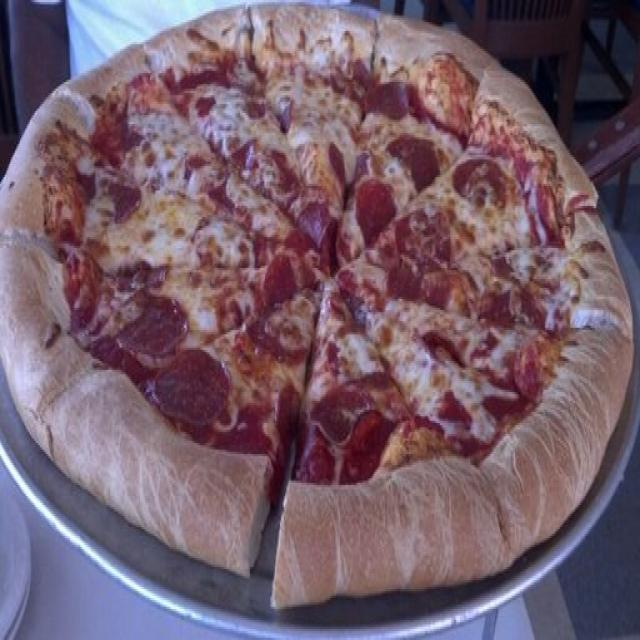Pepperoni: (300, 392, 391, 481), (164, 352, 223, 427), (131, 297, 186, 353), (457, 158, 508, 205), (394, 133, 437, 187), (359, 179, 395, 236), (265, 252, 294, 300), (302, 200, 330, 247), (372, 80, 412, 108), (279, 381, 298, 438), (516, 353, 540, 396), (113, 186, 140, 220), (332, 143, 349, 194), (235, 144, 256, 170), (279, 98, 290, 132)
Pizza: (0, 4, 634, 606)
